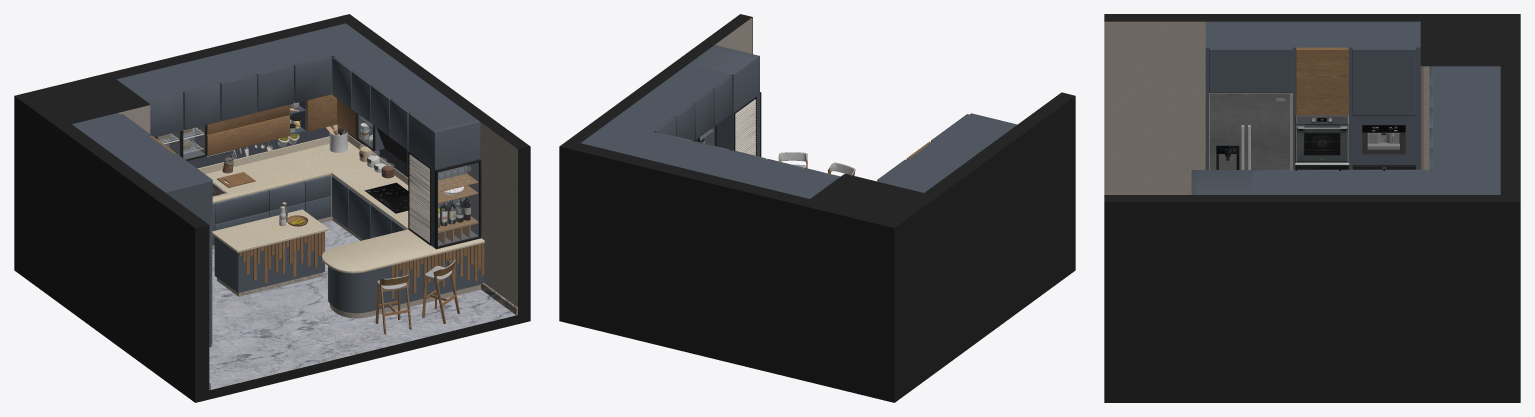
File: kitchen-opt.glb
3 renders of one model, left to right at view 1: azimuth 30°, elevation 25°; view 2: azimuth 150°, elevation 25°; view 3: azimuth 270°, elevation 25°, orthographic. The views are drawn at different scales.
Parts seen in each view (by area): view 1: CLC855_URBAN_Black_0, Cabinets_Closet_0, Walls_Floor_0, Cabinets_Countertop_0, Cabinets_OakWood_0, Cabinets_White_0, Component_Glass_0, Cabinets_Chrome_0, TRB_84300_TRB_843_00_TCS_01_0, Sink_Onyx_0; view 2: CLC855_URBAN_Black_0, Cabinets_Closet_0, Cabinets_Chrome_0, Cabinets_White_0, Stool_M_12_s21_0; view 3: CLC855_URBAN_Black_0, Cabinets_Closet_0, Cabinets_White_0, RLF_74925_Aluminum_0, Cabinets_OakWood_0, HLB_840_Front.001_0, HLB_840_Brushed_Metal1_0.
Part boxes in pixels (x1,y1,x2,y2): CLC855_URBAN_Black_0: [14, 14, 530, 402]; Cabinets_Closet_0: [72, 23, 483, 347]; Walls_Floor_0: [209, 220, 515, 389]; Cabinets_Countertop_0: [197, 134, 484, 273]; Cabinets_OakWood_0: [150, 93, 484, 334]; Cabinets_White_0: [118, 105, 517, 318]; Component_Glass_0: [158, 103, 478, 245]; Cabinets_Chrome_0: [161, 127, 429, 242]; TRB_84300_TRB_843_00_TCS_01_0: [364, 182, 408, 213]; Sink_Onyx_0: [209, 182, 517, 390]; CLC855_URBAN_Black_0: [559, 14, 1075, 402]; Cabinets_Closet_0: [581, 45, 1017, 198]; Cabinets_Chrome_0: [735, 99, 756, 155]; Cabinets_White_0: [715, 17, 752, 53]; Stool_M_12_s21_0: [779, 152, 854, 176]; CLC855_URBAN_Black_0: [1104, 14, 1520, 402]; Cabinets_Closet_0: [1191, 21, 1500, 194]; Cabinets_White_0: [1104, 21, 1429, 194]; RLF_74925_Aluminum_0: [1210, 93, 1289, 170]; Cabinets_OakWood_0: [1296, 47, 1348, 115]; HLB_840_Front.001_0: [1295, 116, 1348, 161]; HLB_840_Brushed_Metal1_0: [1296, 115, 1348, 162].
Size of the model in its own units: 6.57 by 3.27 by 6.14.
Materials: 50 (49 with a texture image).
